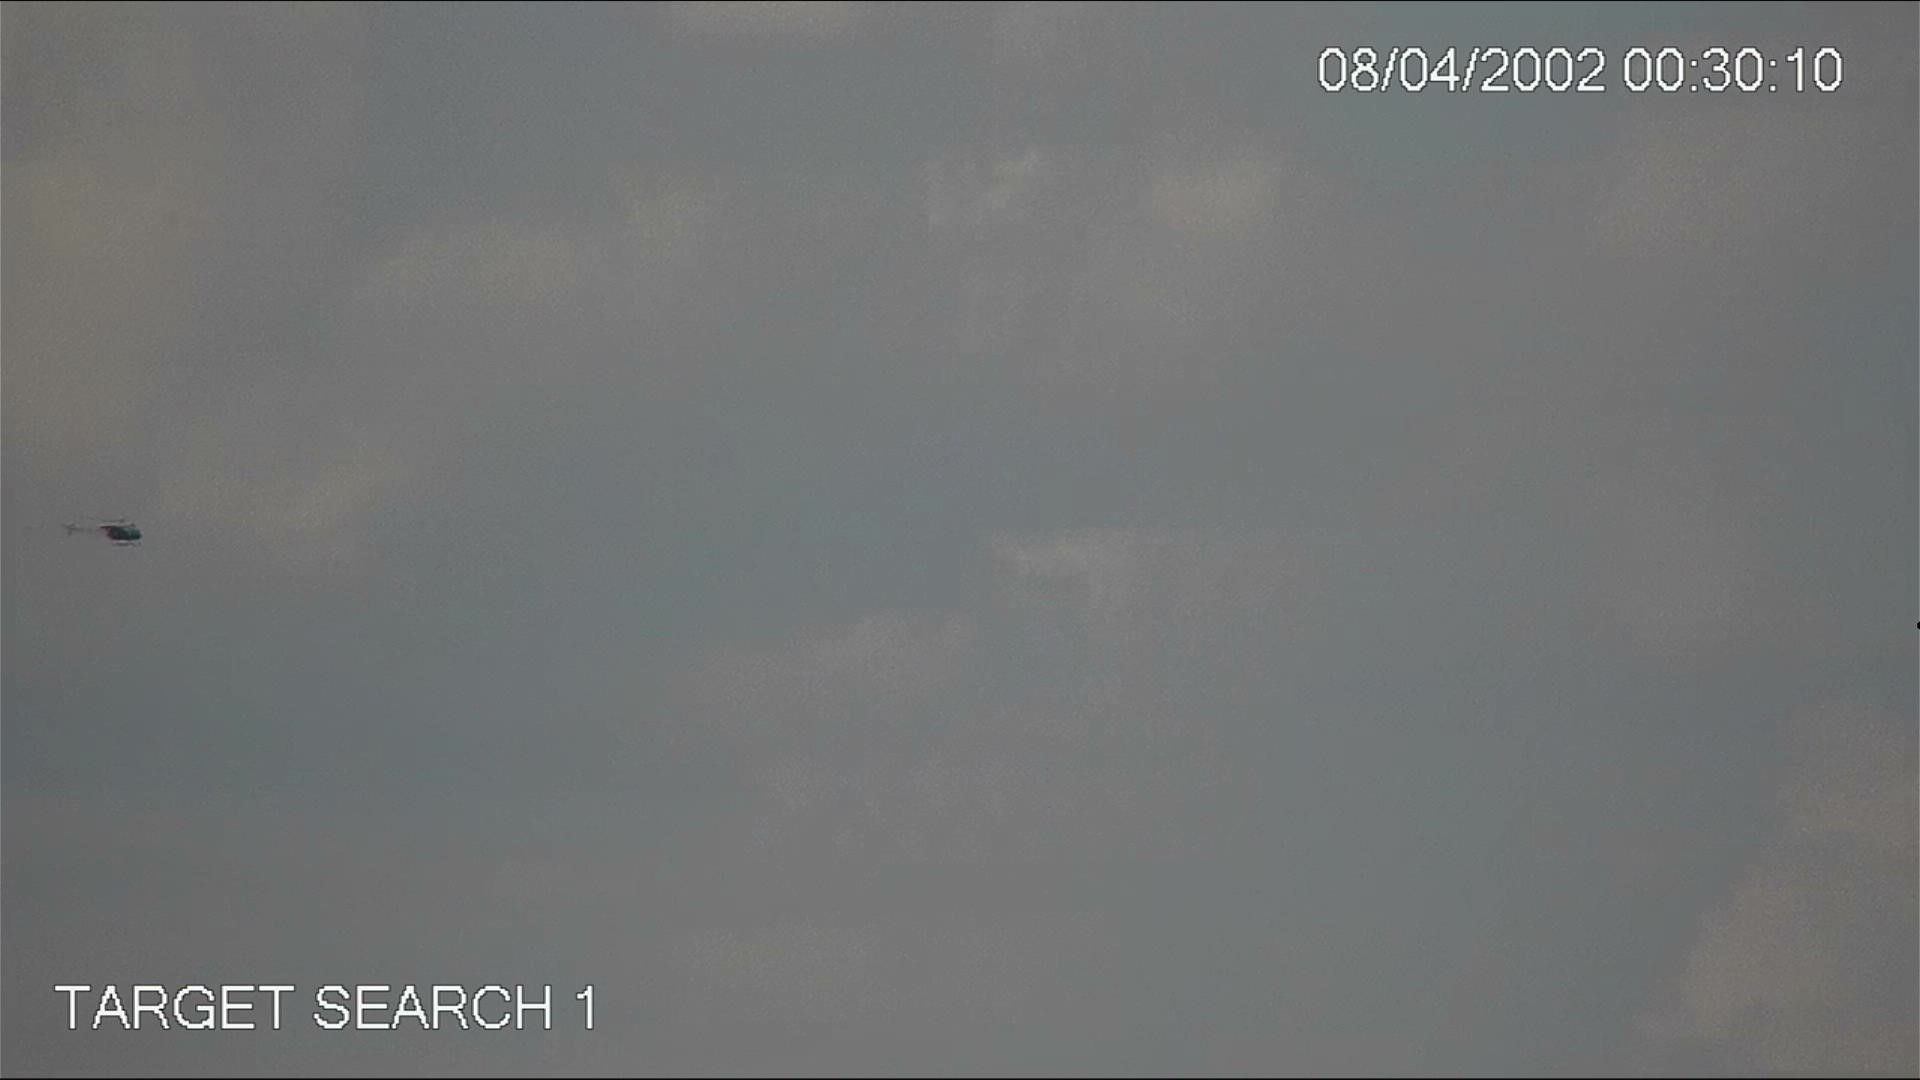SU_30: (58, 505, 146, 556)
